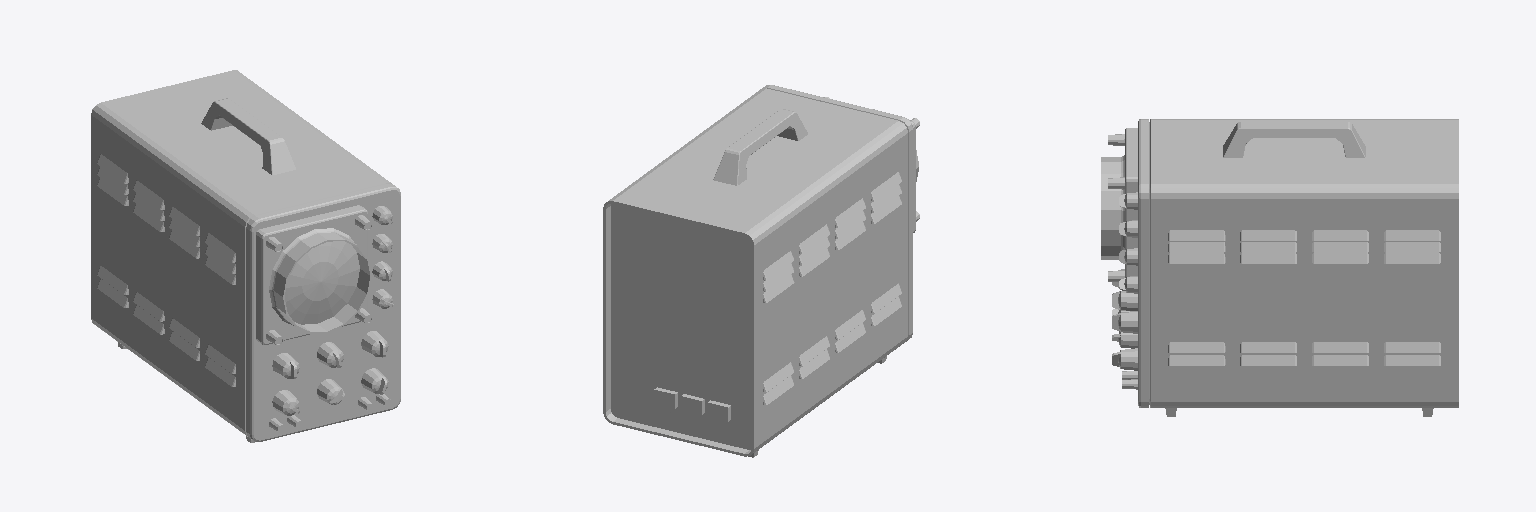
Rendered from oscilloscope.obj.
The picture shows the model from 3 angles: view 1: azimuth 30°, elevation 25°; view 2: azimuth 150°, elevation 25°; view 3: azimuth 270°, elevation 25°; orthographic projection.
Parts seen in each view (by area): view 1: oscilloscope; view 2: oscilloscope; view 3: oscilloscope.
Part boxes in pixels (left/top/right/bottom): oscilloscope: left=91, top=70, right=400, bottom=442; oscilloscope: left=603, top=85, right=919, bottom=457; oscilloscope: left=1101, top=119, right=1458, bottom=416.
Bounding box in the file's own units: 17.83 × 28.2 × 34.8.